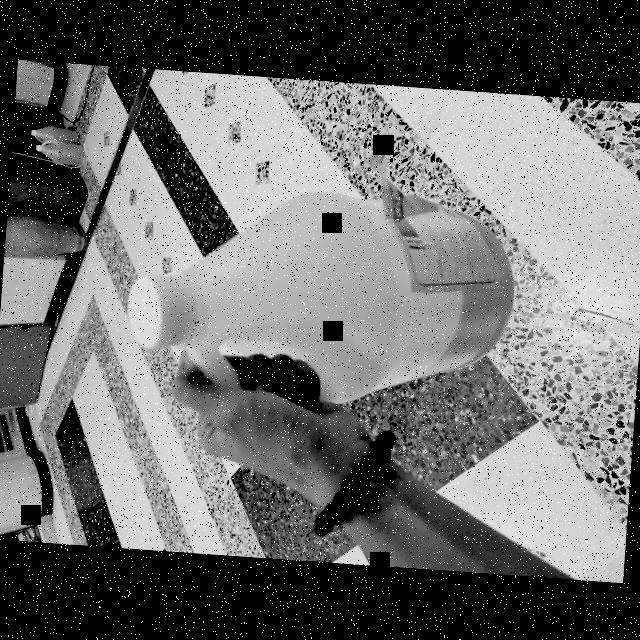chemical_plastic_gallon: (98, 146, 524, 456)
